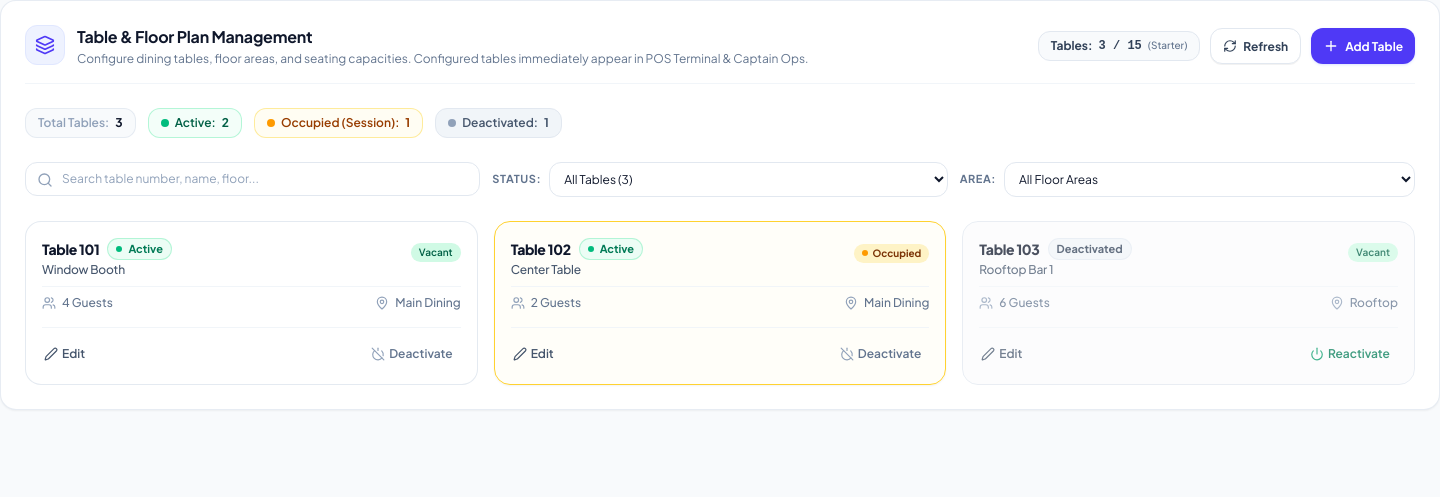
Scenario: TableManagementSection Component Integration Tests › prevents deactivating a table with an active dining session
This screenshot has width=1440, height=497.
Check: the text "Table 102" is shown, box top-left (511, 239), bottom-right (571, 259)
Click the button with id "toggle-table-btn-table_2" at [881, 354], box top-left (832, 342), bottom-right (929, 366)
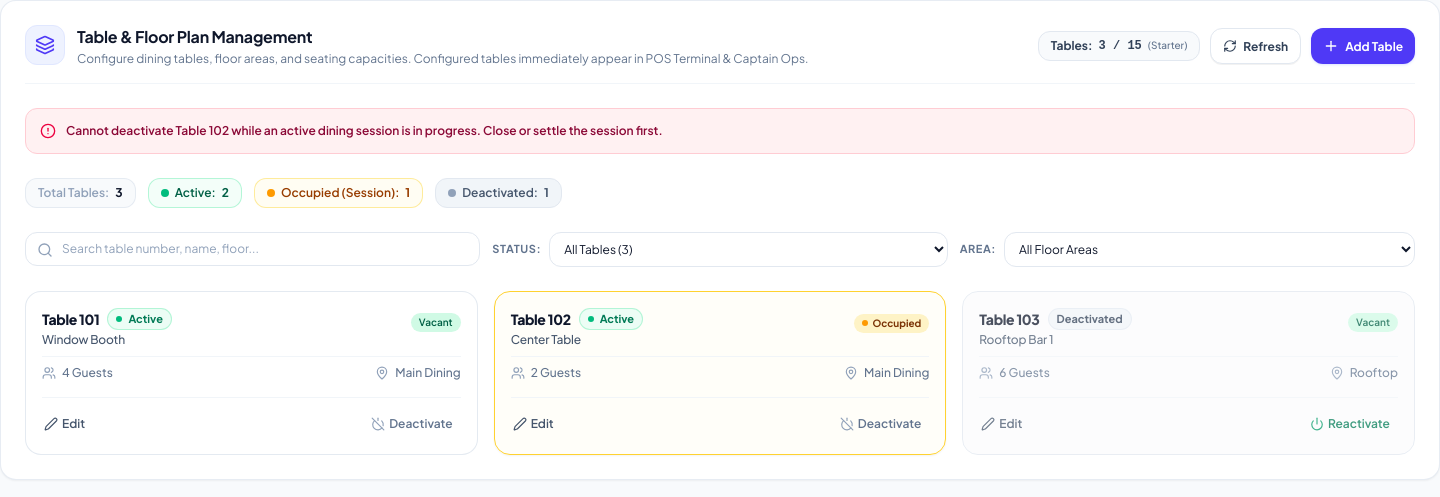
Check: the text "Cannot deactivate Table 102 while an active dining session is in progress" is shown, box top-left (66, 123), bottom-right (663, 138)
